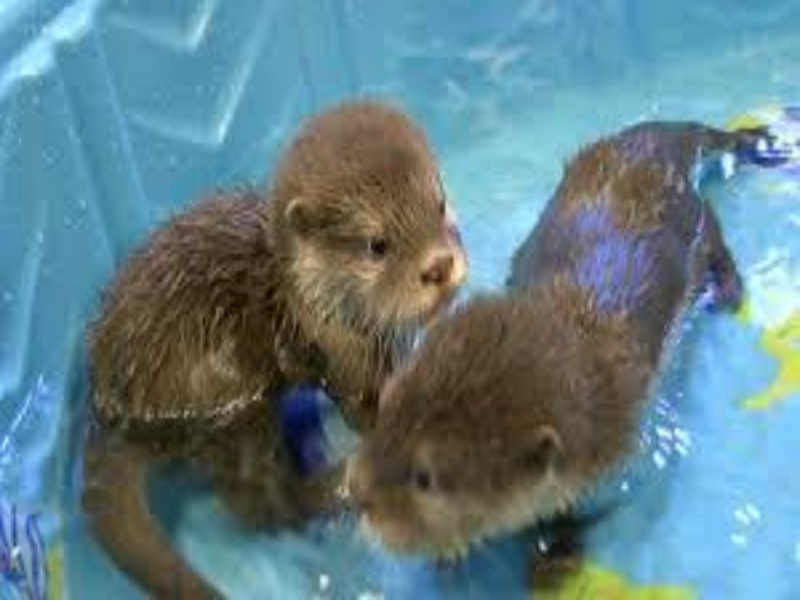minkish: (341, 112, 787, 585), (74, 87, 472, 600)
